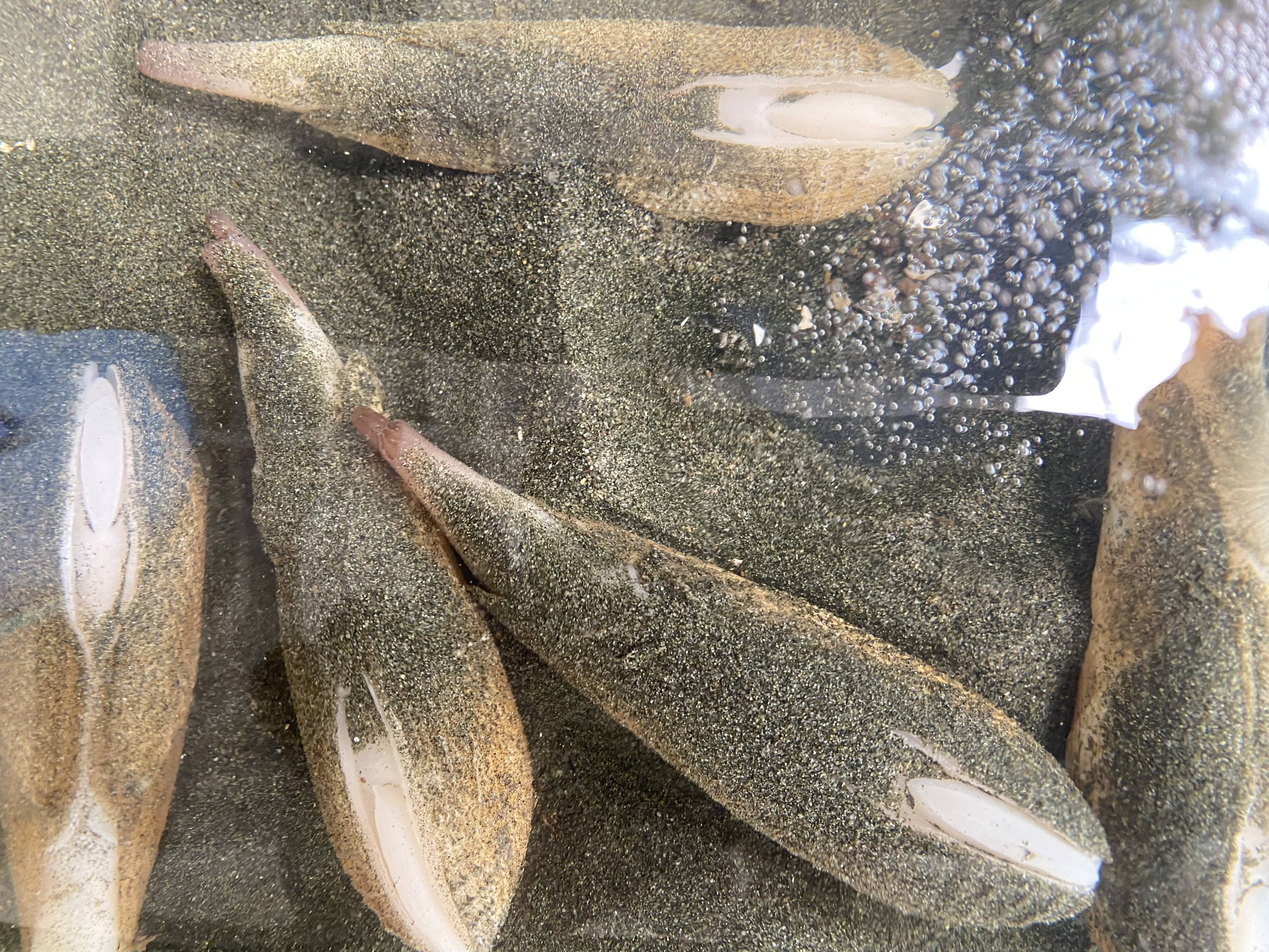Healthy: (357, 413, 1108, 926), (138, 19, 956, 224), (201, 210, 352, 456)
